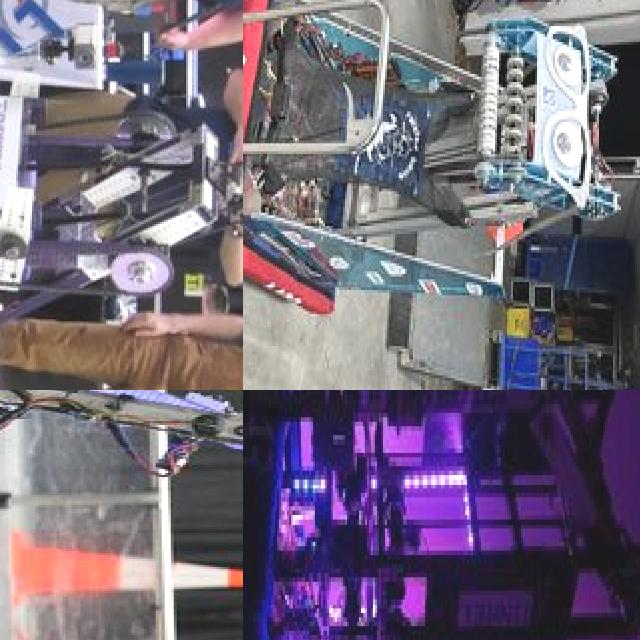FRC-Robots: (243, 0, 605, 344), (243, 390, 640, 640), (0, 0, 243, 390), (0, 390, 243, 561)
